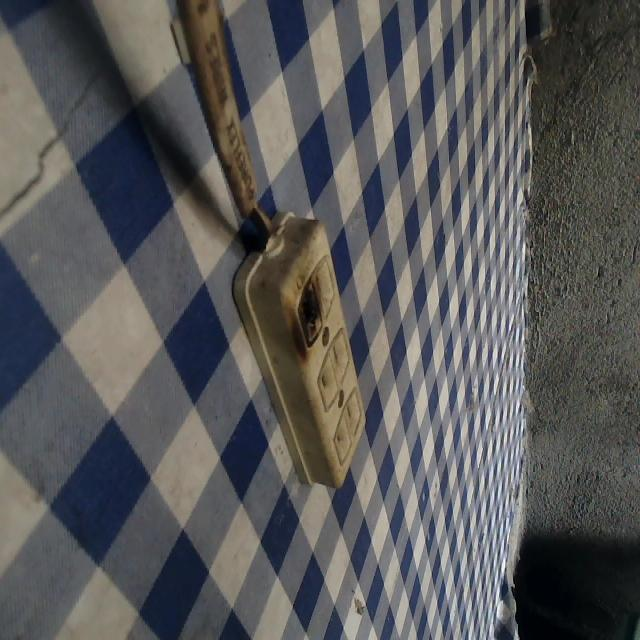-: (284, 265, 331, 355)
